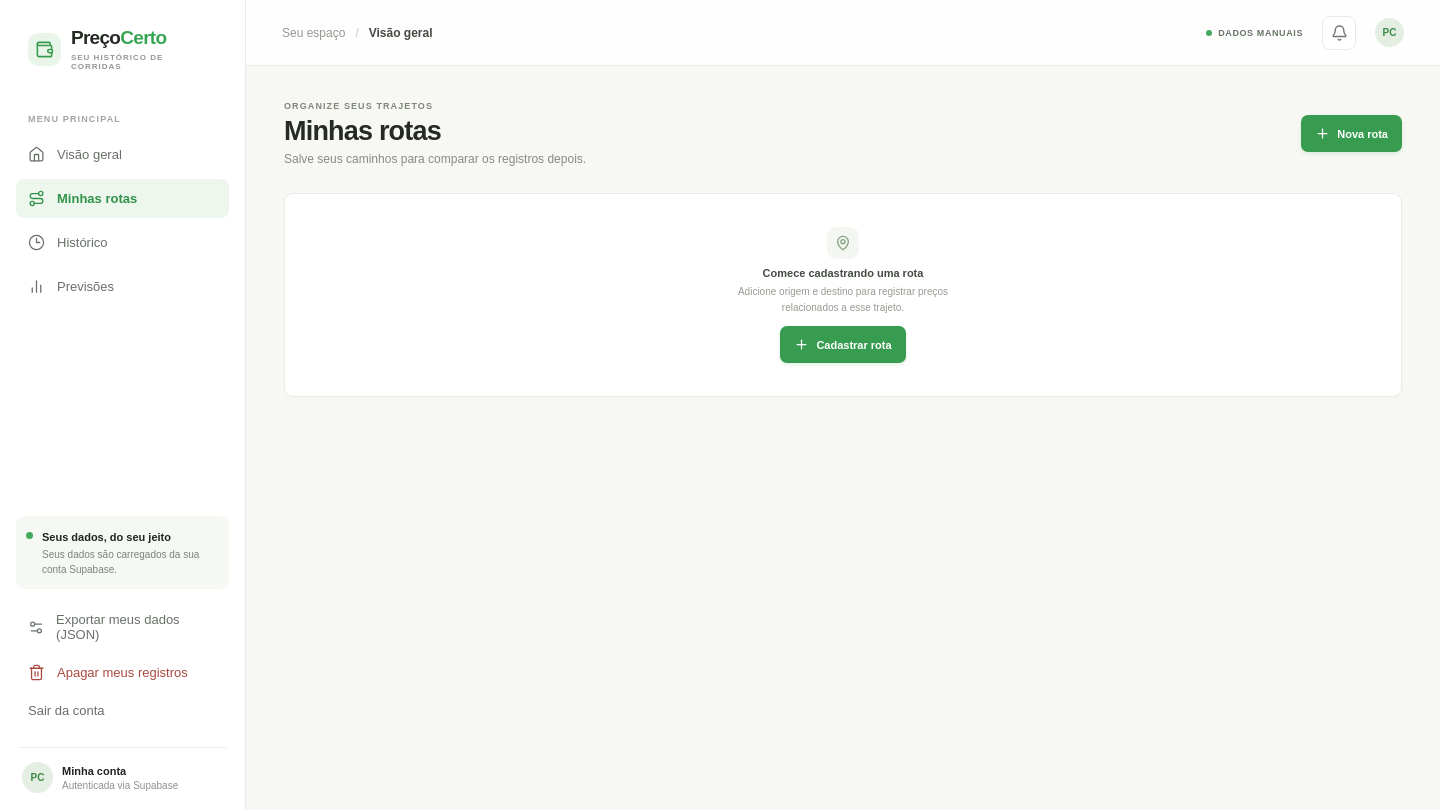
Scenario: PreçoCerto conectado › exibe validação em formulário de rota
The image size is (1440, 810).
Click the button "Nova rota". click: (1352, 134)
box: [1301,115,1402,152]
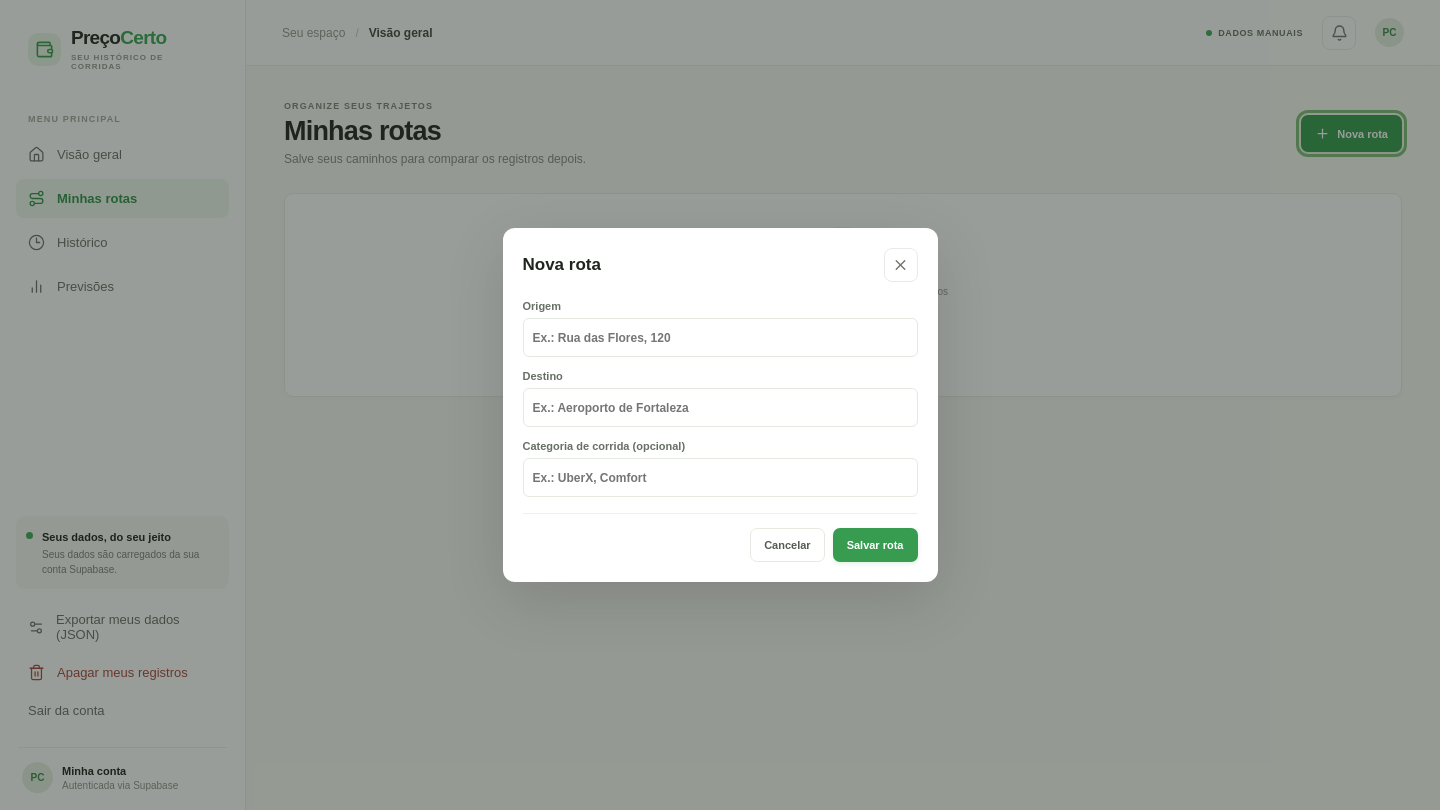
Type "x" into the field labelled "Origem". click: (720, 338)
box: [522,318,918,357]
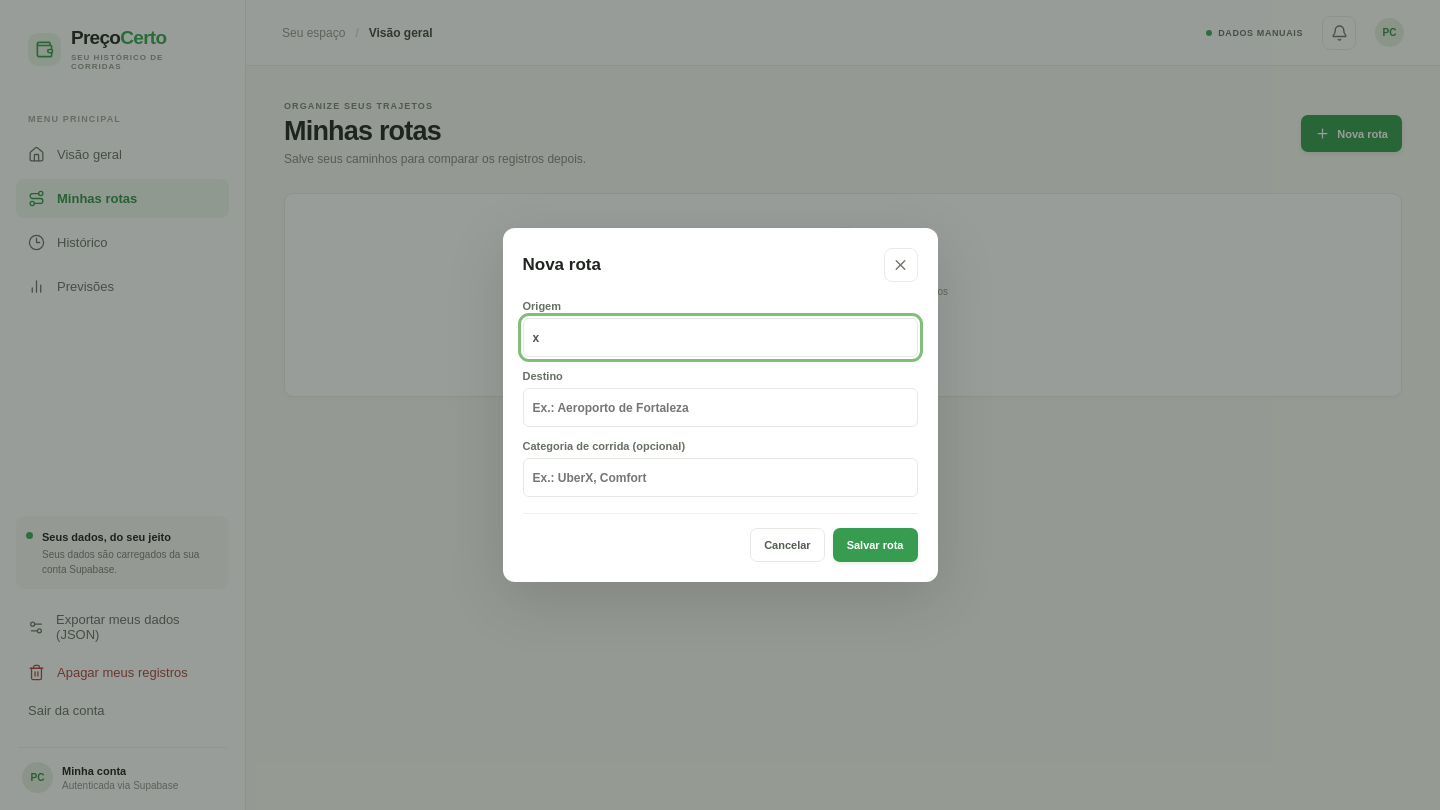
Type "Aeroporto" into the field labelled "Destino". click: (720, 408)
box: [522,388,918,427]
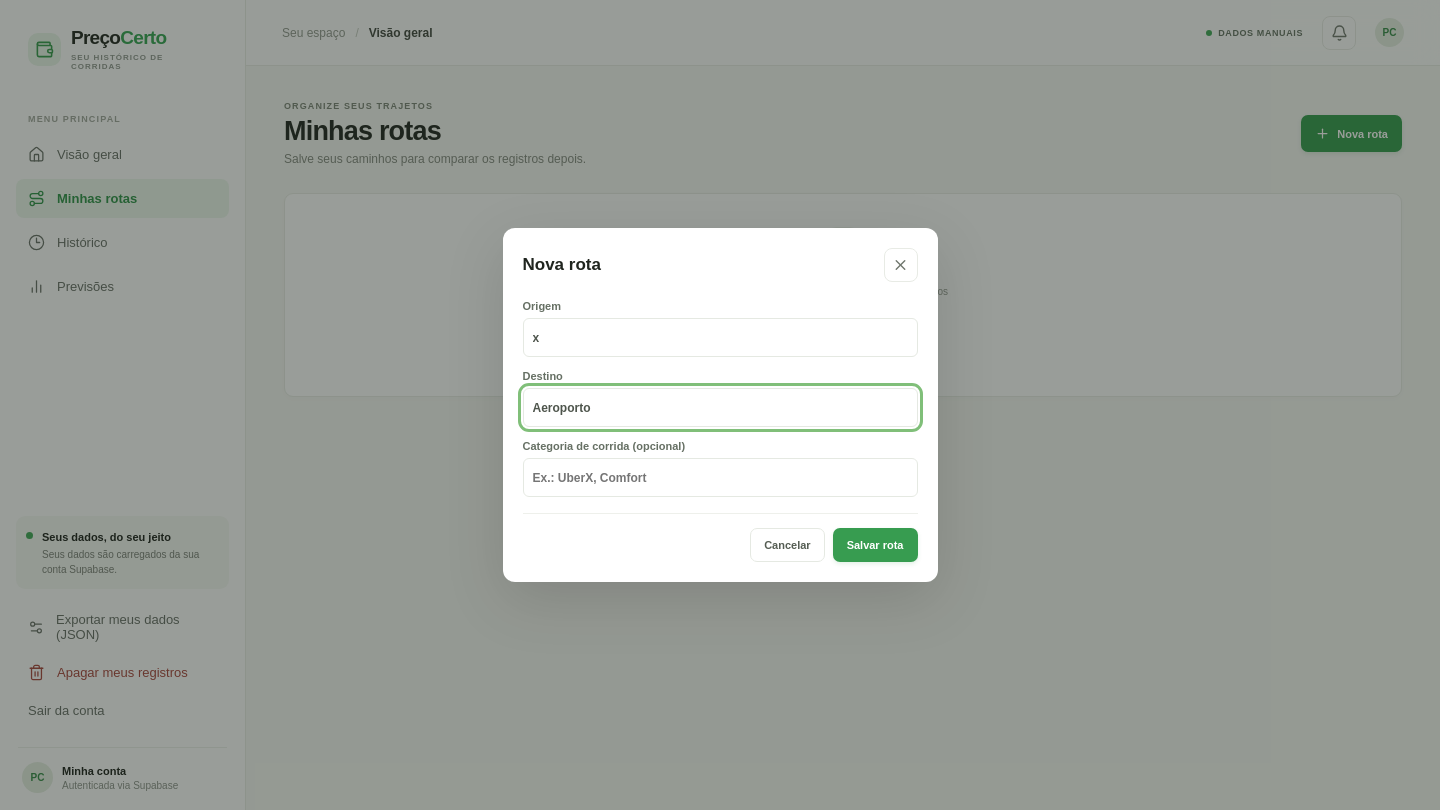
Click the button "Salvar rota". click: (875, 545)
box: [833,528,918,562]
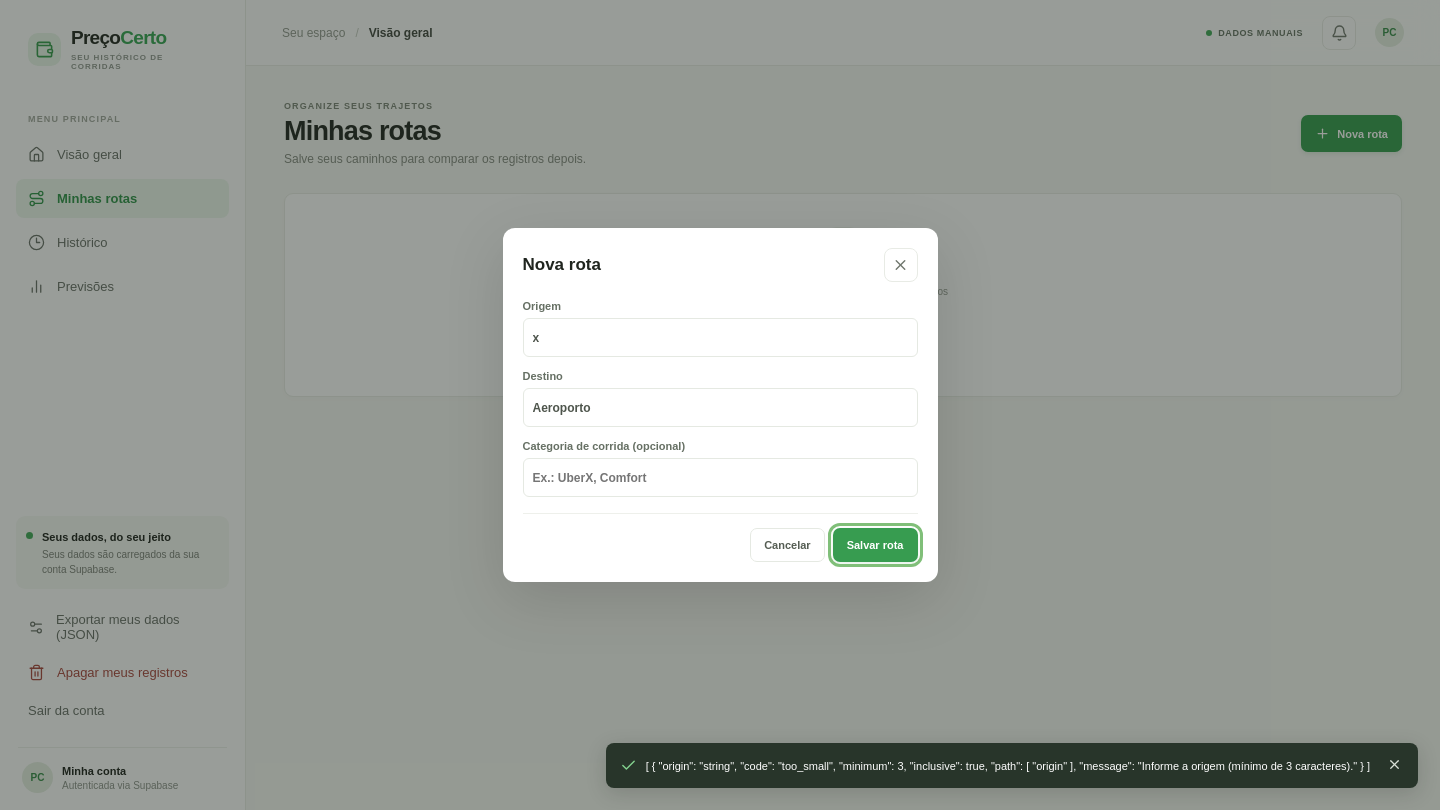
Check: the text "mínimo de 3 caracteres" is shown, box [646,760,1370,772]
